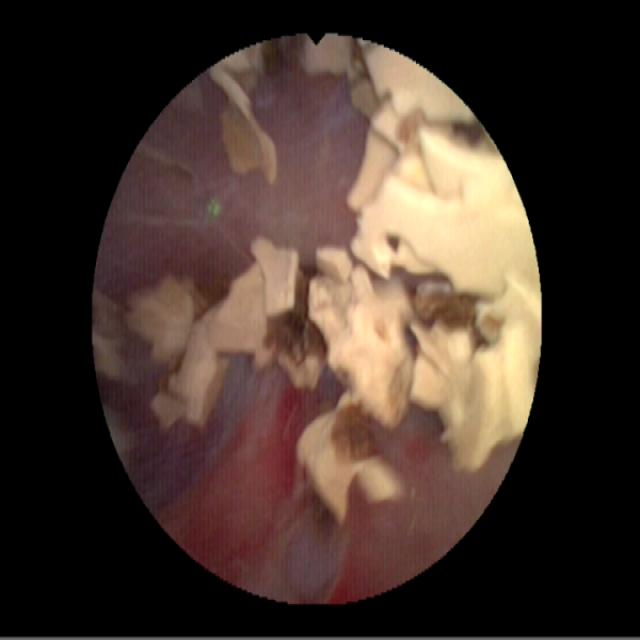stone: (126, 43, 537, 522)
tissue: (116, 394, 498, 595), (110, 74, 348, 295)
